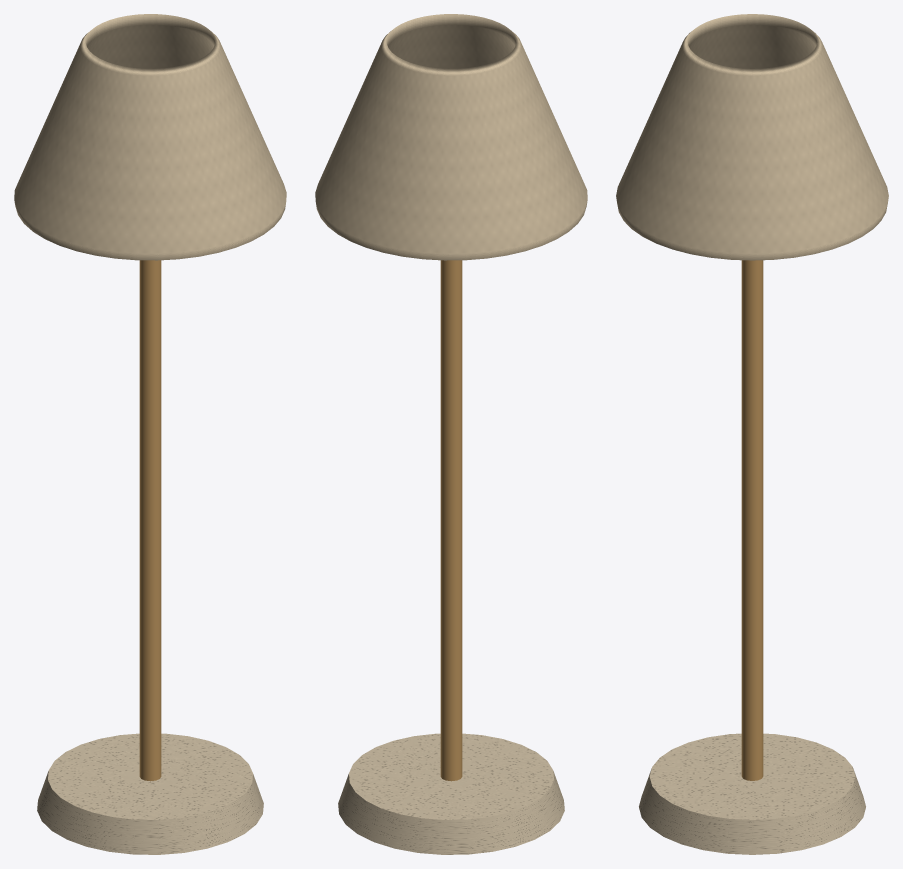
Rendered from floorlamp-ea0576b68211.glb.
3 views of the same model, side by side, from view 1: azimuth 30°, elevation 25°; view 2: azimuth 150°, elevation 25°; view 3: azimuth 270°, elevation 25° (orthographic).
Parts seen in each view (by area): view 1: surface_linen, surface_terrazzo, surface_brass; view 2: surface_linen, surface_terrazzo, surface_brass; view 3: surface_linen, surface_terrazzo, surface_brass.
Part boxes in pixels (x1,y1,x2,y2): surface_linen: [14, 14, 286, 260]; surface_terrazzo: [37, 733, 263, 854]; surface_brass: [139, 260, 161, 781]; surface_linen: [315, 14, 587, 260]; surface_terrazzo: [338, 733, 564, 854]; surface_brass: [440, 260, 462, 781]; surface_linen: [616, 14, 888, 260]; surface_terrazzo: [639, 733, 865, 854]; surface_brass: [741, 260, 763, 780].
Size of the model in its own units: 0.504 by 1.56 by 0.504.
Materials: 4 (2 with a texture image).
